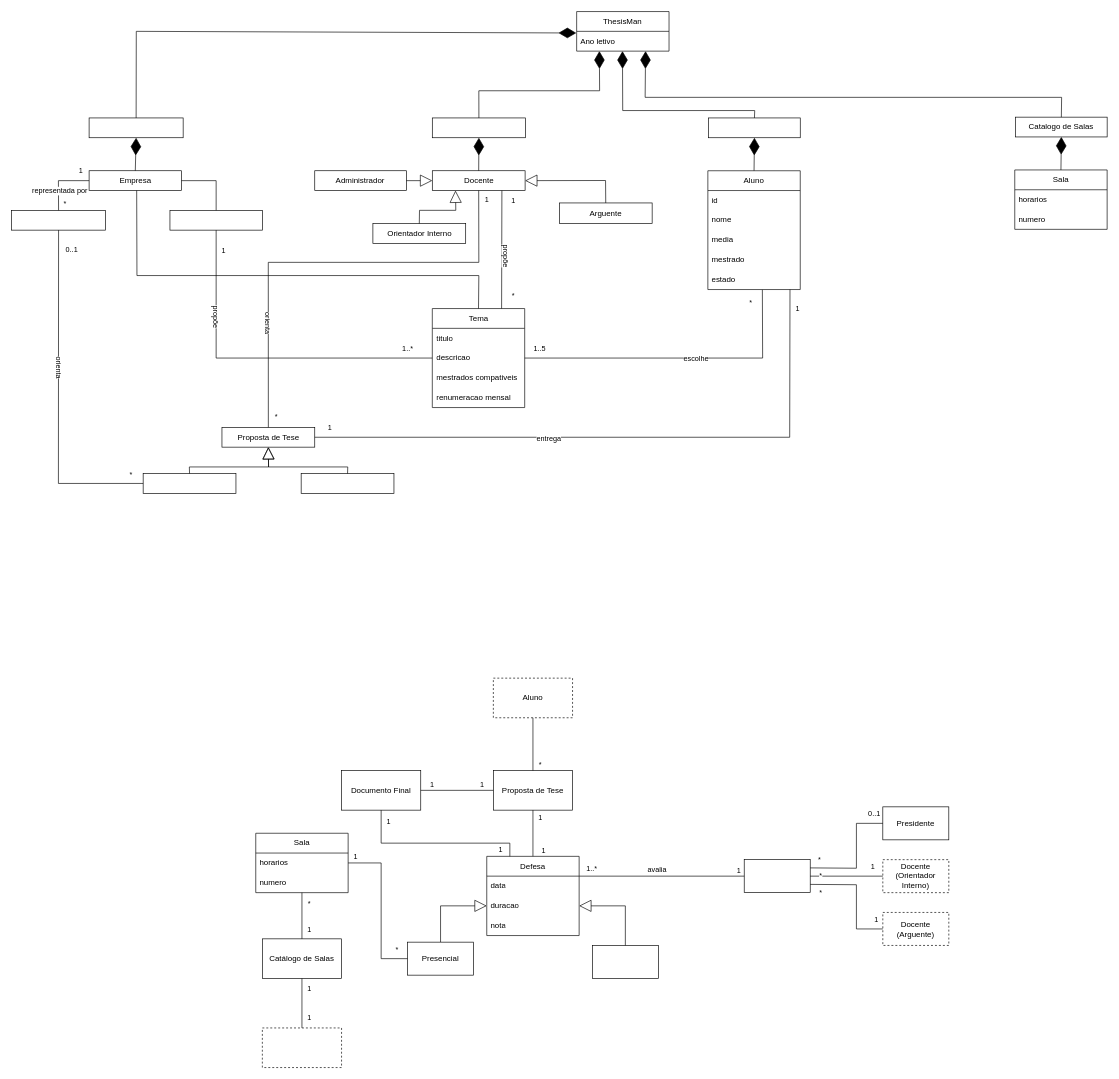
Image size: 1119x1079. Some labels were removed from this diagram. The shapes that lost their labels are listed below. From the top down, each one's centre as x and y in pixels, then its label:
At point 135,127: "Catalogo de Empresas".
At point 478,127: "Catalogo de Docentes".
At point 754,127: "Catalogo de Alunos".
At point 58,220: "Orientador Externo".
At point 215,220: "Utilizador Empresarial".
At point 189,483: "Projeto".
At point 347,483: "Dissertacao".
At point 777,876: "Júri".
At point 625,961: "Remota".
At point 302,1047: "Processo".
